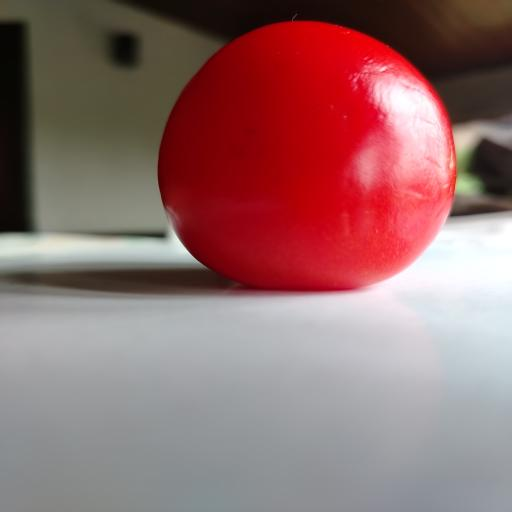ripe: (158, 21, 455, 290)
